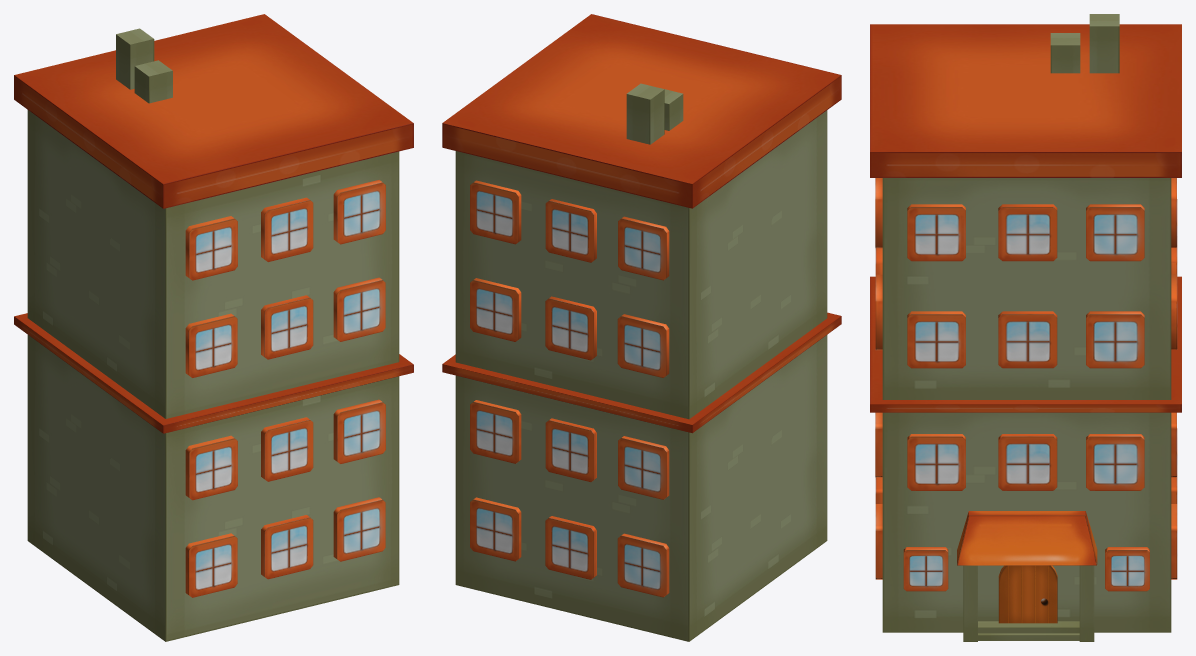
The model's file is House_14.fbx.
3 renders of one model, left to right at view 1: azimuth 30°, elevation 25°; view 2: azimuth 150°, elevation 25°; view 3: azimuth 270°, elevation 25°, orthographic. The views are drawn at different scales.
Parts seen in each view (by area): view 1: House_14; view 2: House_14; view 3: House_14.
Part boxes in pixels (x1,y1,x2,y2): House_14: [14, 14, 413, 641]; House_14: [442, 14, 841, 641]; House_14: [870, 14, 1181, 641].
Bounding box in the file's own units: 8.18 × 14.57 × 7.74.
